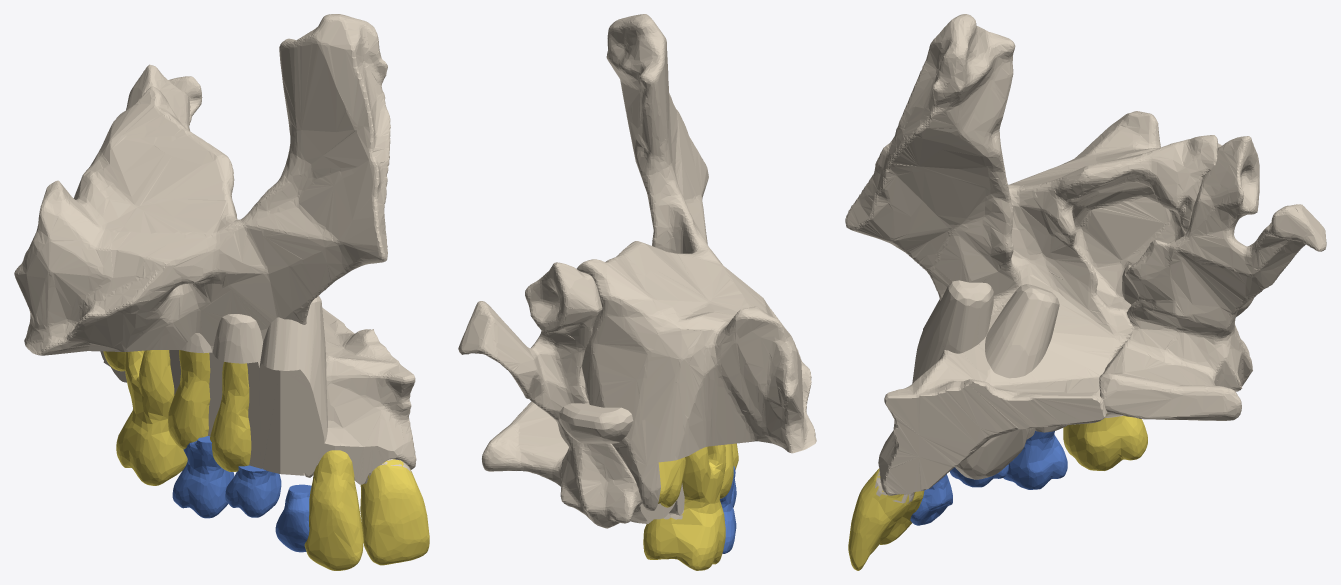
Rendered from palatal.glb.
3 renders of one model, left to right at view 1: azimuth 30°, elevation 25°; view 2: azimuth 150°, elevation 25°; view 3: azimuth 270°, elevation 25°, orthographic. The views are drawn at different scales.
Parts seen in each view (by area): view 1: bone, teeth, baby-teeth, baby-canine; view 2: bone, teeth, baby-teeth; view 3: bone, teeth, baby-teeth, baby-canine.
Boxes of the visible parts, x1=… form: bone: x1=14, y1=14, x2=416, y2=484; teeth: x1=103, y1=350, x2=429, y2=570; baby-teeth: x1=172, y1=436, x2=281, y2=518; baby-canine: x1=275, y1=484, x2=311, y2=552; bone: x1=458, y1=14, x2=816, y2=528; teeth: x1=643, y1=443, x2=738, y2=570; baby-teeth: x1=720, y1=466, x2=736, y2=553; bone: x1=845, y1=14, x2=1326, y2=503; teeth: x1=848, y1=414, x2=1147, y2=570; baby-teeth: x1=949, y1=431, x2=1067, y2=489; baby-canine: x1=910, y1=474, x2=952, y2=525.
Bounding box in the file's own units: 0.0451 × 0.0795 × 0.0637.
